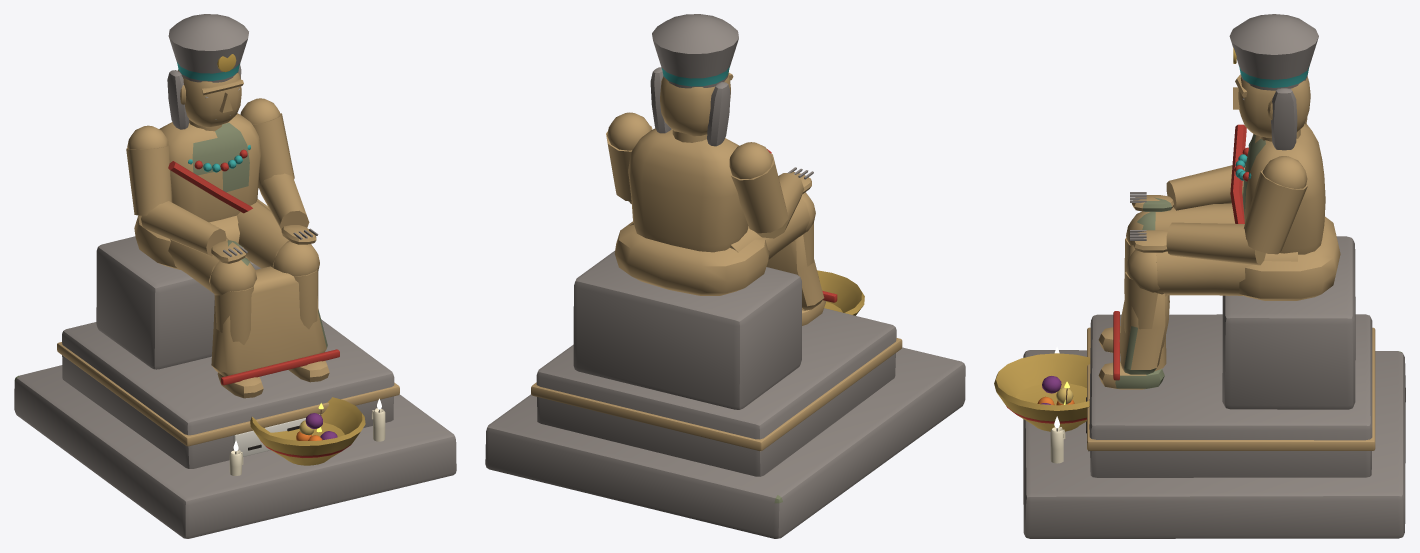
The model's file is deco_ancestor_statue.fbx.
3 renders of one model, left to right at view 1: azimuth 30°, elevation 25°; view 2: azimuth 150°, elevation 25°; view 3: azimuth 270°, elevation 25°, orthographic. The views are drawn at different scales.
Parts seen in each view (by area): view 1: AncestorStatue_Plinth, AncestorStatue_Figure, AncestorStatue_Bowl; view 2: AncestorStatue_Plinth, AncestorStatue_Figure, AncestorStatue_Bowl; view 3: AncestorStatue_Plinth, AncestorStatue_Figure, AncestorStatue_Bowl.
Boxes of the visible parts, x1,y1,x2,y2 form: AncestorStatue_Plinth: (14, 236, 456, 538); AncestorStatue_Figure: (126, 14, 339, 398); AncestorStatue_Bowl: (229, 397, 385, 475); AncestorStatue_Plinth: (485, 251, 965, 538); AncestorStatue_Figure: (606, 14, 837, 325); AncestorStatue_Bowl: (817, 270, 880, 321); AncestorStatue_Plinth: (1023, 236, 1405, 538); AncestorStatue_Figure: (1098, 14, 1340, 389); AncestorStatue_Bowl: (994, 346, 1090, 463).
Size of the model in its own units: 211 by 299 by 248.
